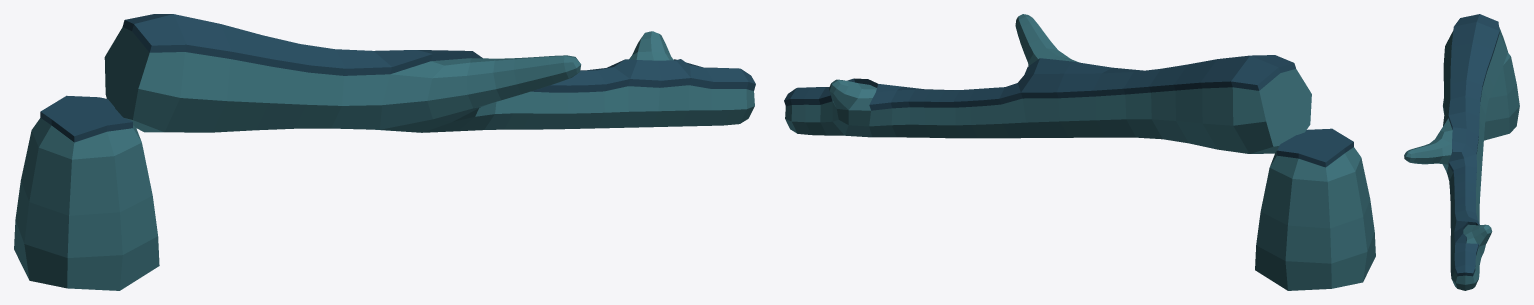
The model's file is arvore2.fbx.
The picture shows the model from 3 angles, left to right: view 1: azimuth 30°, elevation 25°; view 2: azimuth 150°, elevation 25°; view 3: azimuth 270°, elevation 25°; orthographic projection. The views are drawn at different scales.
Parts seen in each view (by area): view 1: Vert; view 2: Vert; view 3: Vert.
Part boxes in pixels (left/top/right/bottom): Vert: left=14, top=14, right=755, bottom=290; Vert: left=784, top=14, right=1375, bottom=290; Vert: left=1404, top=14, right=1519, bottom=290.
Bounding box in the file's own units: 1014 × 321 × 267.
